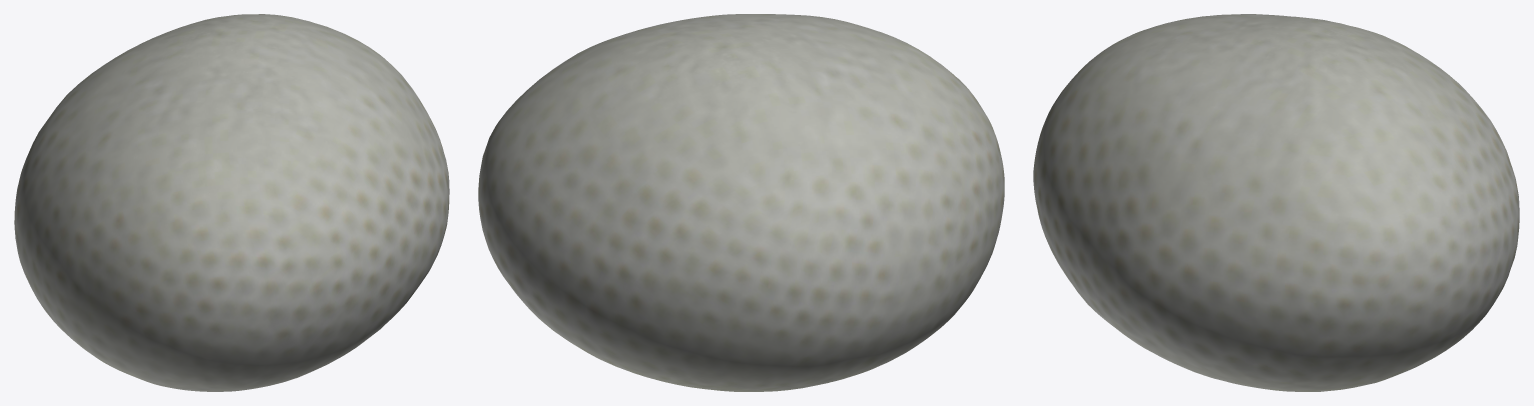
Rendered from Mozza.fbx.
3 renders of one model, left to right at view 1: azimuth 30°, elevation 25°; view 2: azimuth 150°, elevation 25°; view 3: azimuth 270°, elevation 25°, orthographic. The views are drawn at different scales.
Visible parts, largest first — view 1: mesh; view 2: mesh; view 3: mesh.
Part boxes in pixels (x1,y1,x2,y2): mesh: (14, 14, 449, 391); mesh: (478, 14, 1004, 391); mesh: (1033, 14, 1519, 391).
Bounding box in the file's own units: 99.96 × 71.4 × 98.22.
